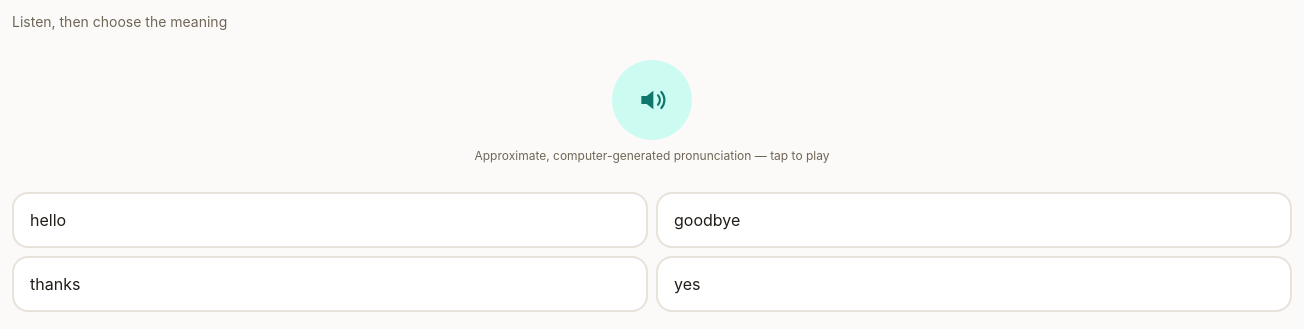
Test: ListeningRunner › offers a Play/Replay control using a pre-generated clip even with no device voice
Click the button named "Play the Persian audio". click: [652, 100]
box: [612,60,692,140]
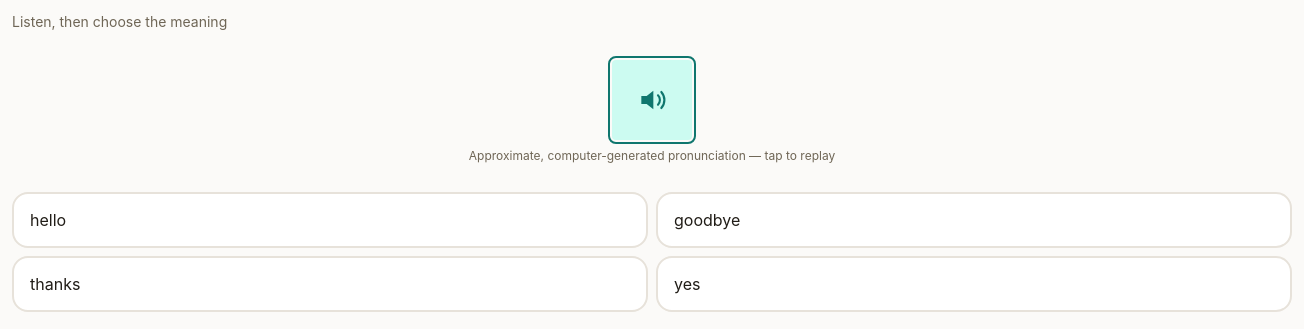
Expected: the button named "Replay the Persian audio" is shown, [612,60,692,140]
